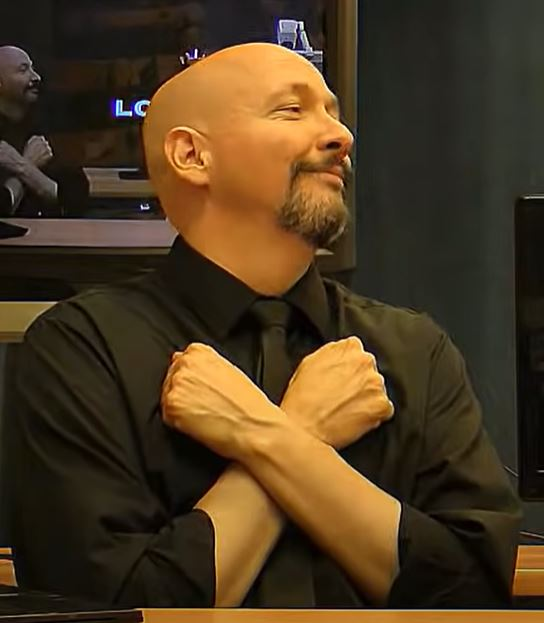Love: (149, 315, 434, 598)
